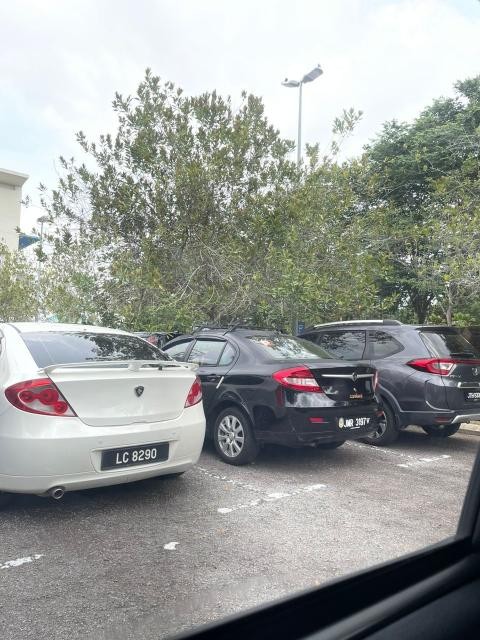License_Plate: (109, 442, 163, 472), (337, 413, 378, 434), (459, 386, 480, 409)
car: (1, 315, 205, 511), (140, 321, 385, 469), (286, 315, 480, 443)
